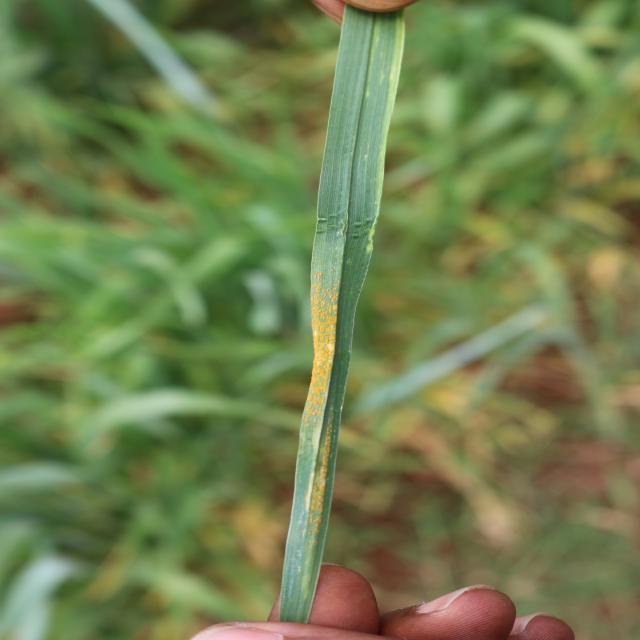Stripe Rust: (306, 284, 342, 412)
